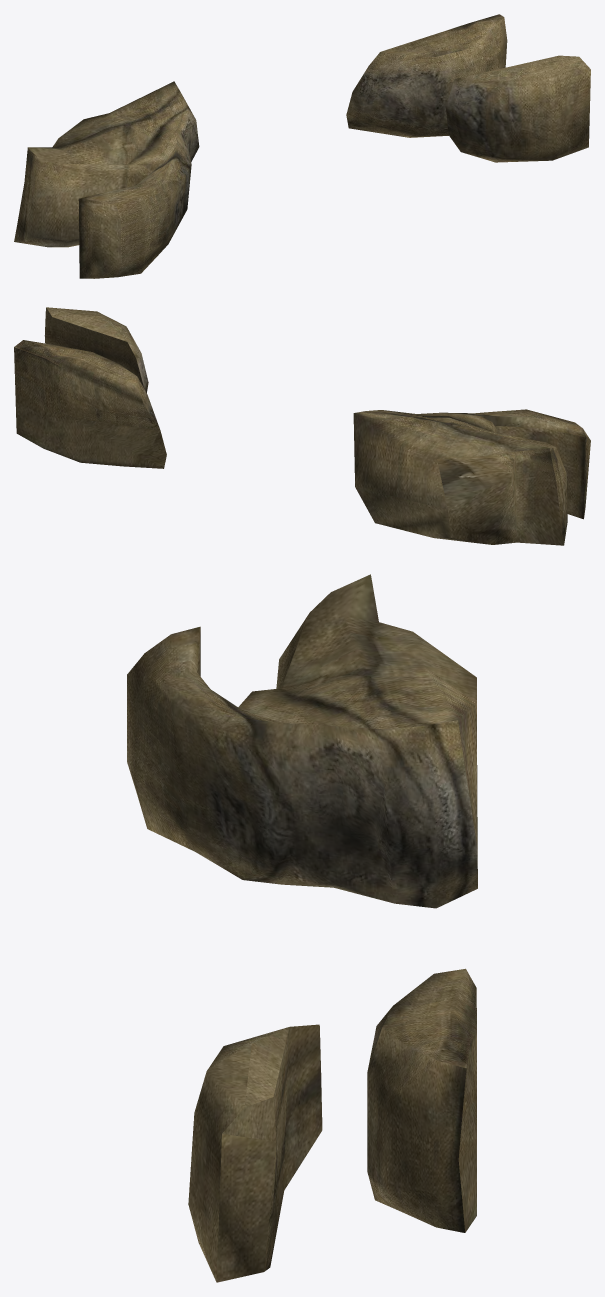
File: military_sandbag_desert_expld_shortsection.glb
The picture shows the model from 3 angles, top to bottom: view 1: azimuth 30°, elevation 25°; view 2: azimuth 150°, elevation 25°; view 3: azimuth 270°, elevation 25°; orthographic projection. The views are drawn at different scales.
Size of the model in its own units: 92.95 by 18.69 by 26.16.
1 material, 1 textured.
